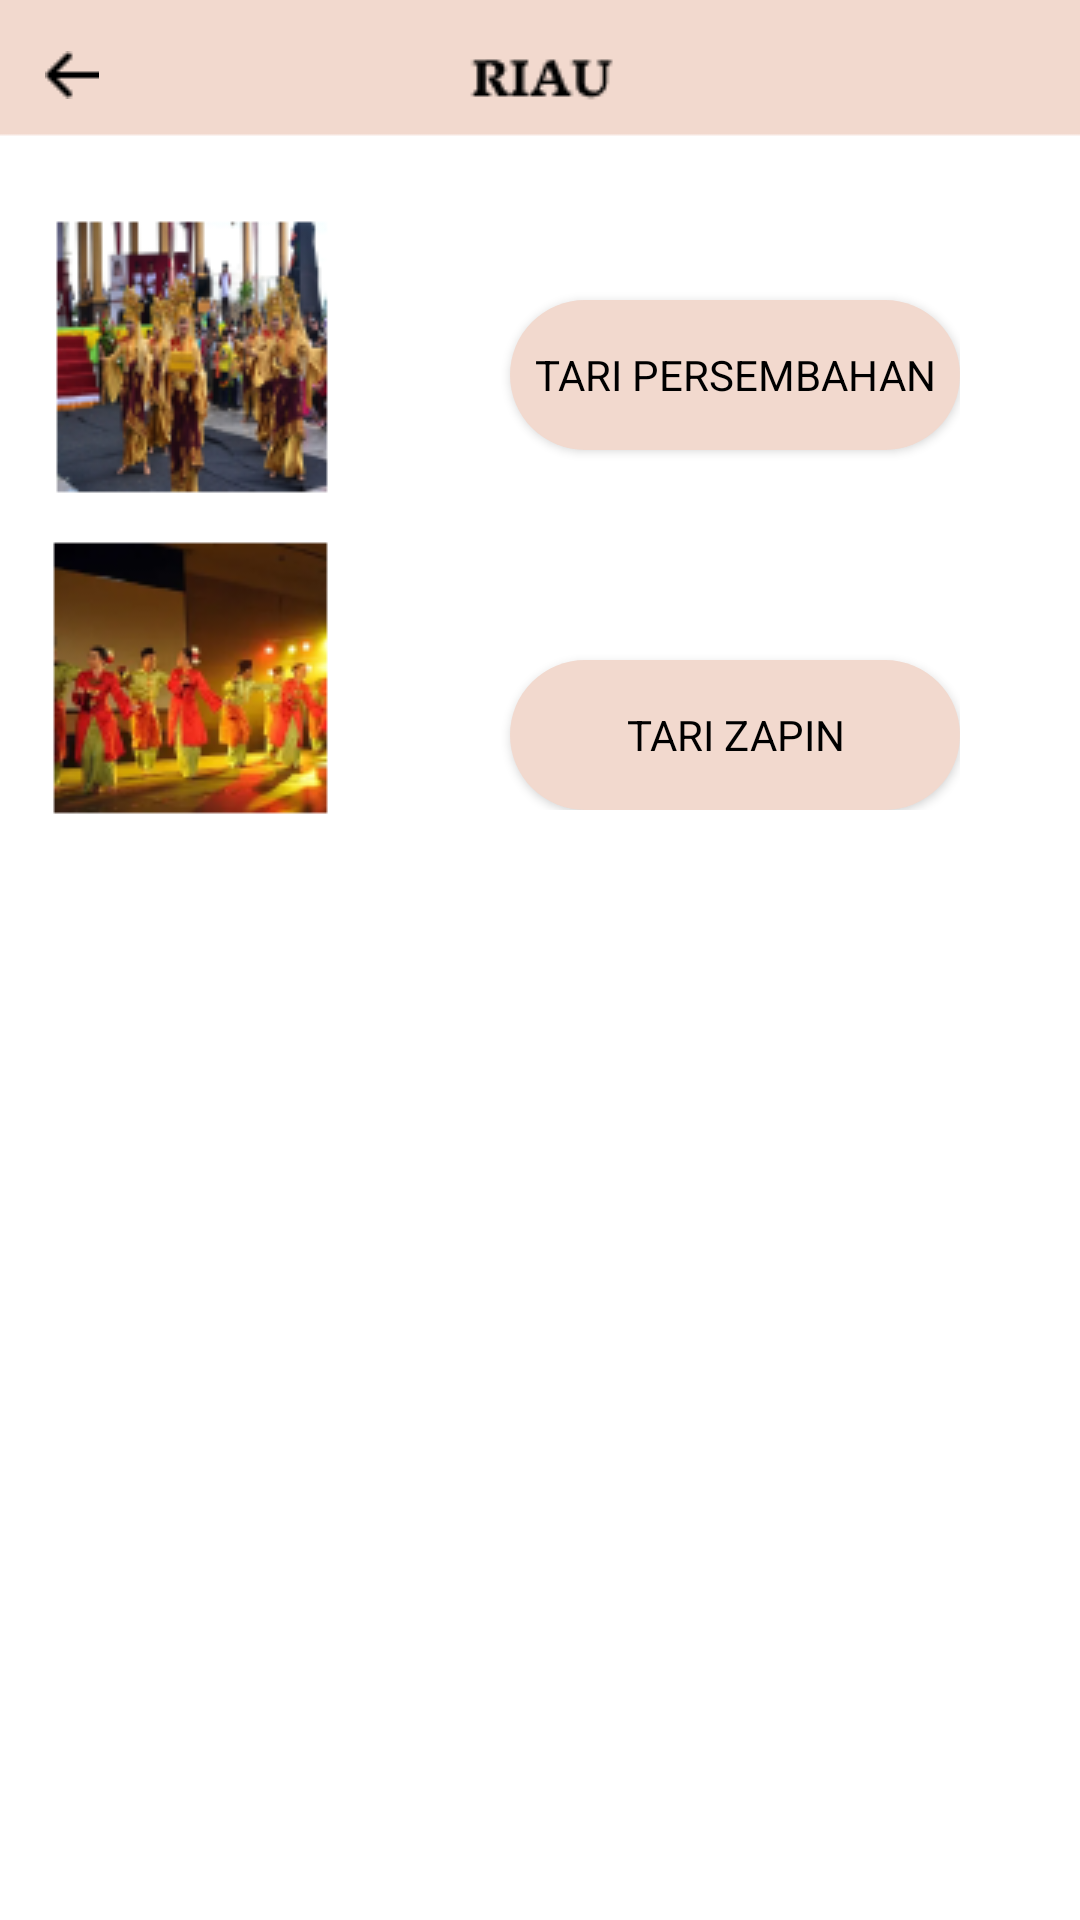

Where icons sit on this 1080 × 1920 app screen, as (x1, y1, x2, y2):
back: (45, 51, 99, 99)
